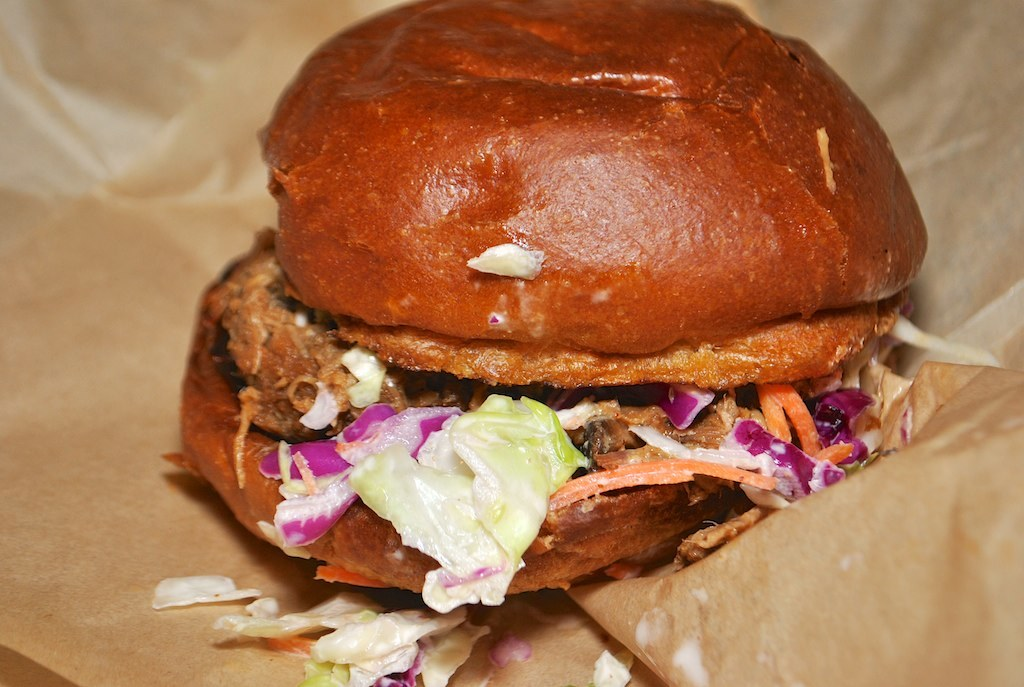Hamburger: (160, 4, 926, 615)
